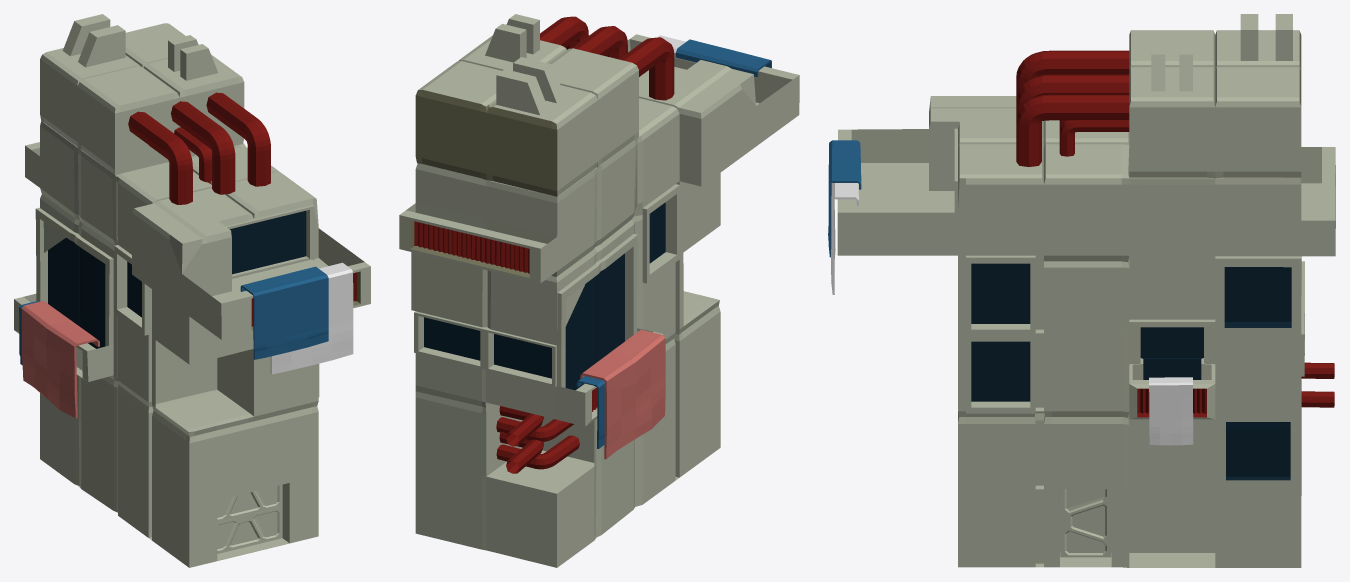
Rendered from House9.fbx.
The picture shows the model from 3 angles, left to right: view 1: azimuth 30°, elevation 25°; view 2: azimuth 150°, elevation 25°; view 3: azimuth 270°, elevation 25°; orthographic projection. The views are drawn at different scales.
Visible parts, largest first — view 1: B9; view 2: B9; view 3: B9.
Part boxes in pixels (box(x1,y1,x2,y2)): B9: box(14, 14, 370, 567); B9: box(399, 14, 799, 567); B9: box(828, 14, 1335, 567).
Bounding box in the file's own units: 1393 × 3200 × 2954.
